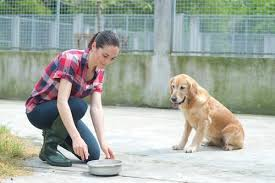dog_sitting: (170, 73, 246, 154)
